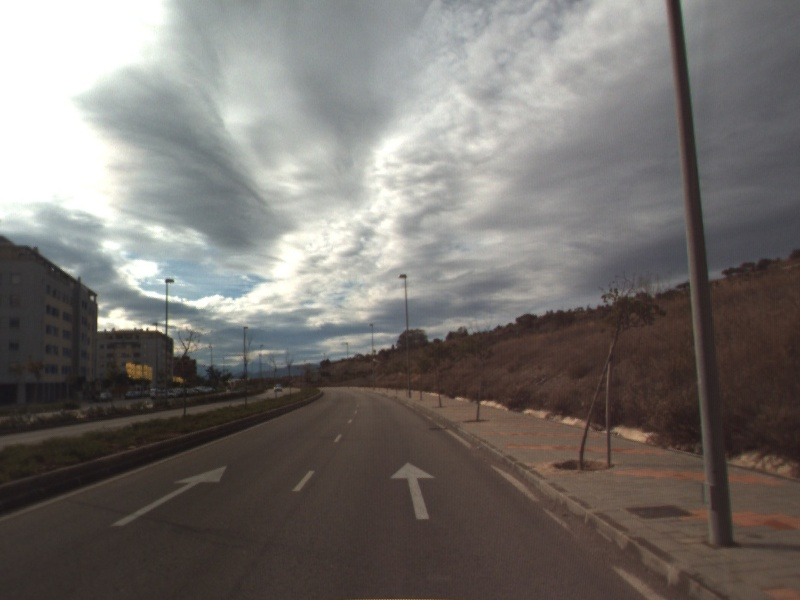STRAIGHT: (108, 463, 229, 528), (388, 460, 438, 521)
